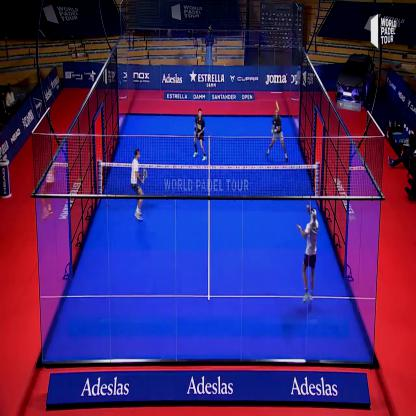ball: (271, 92, 283, 113)
